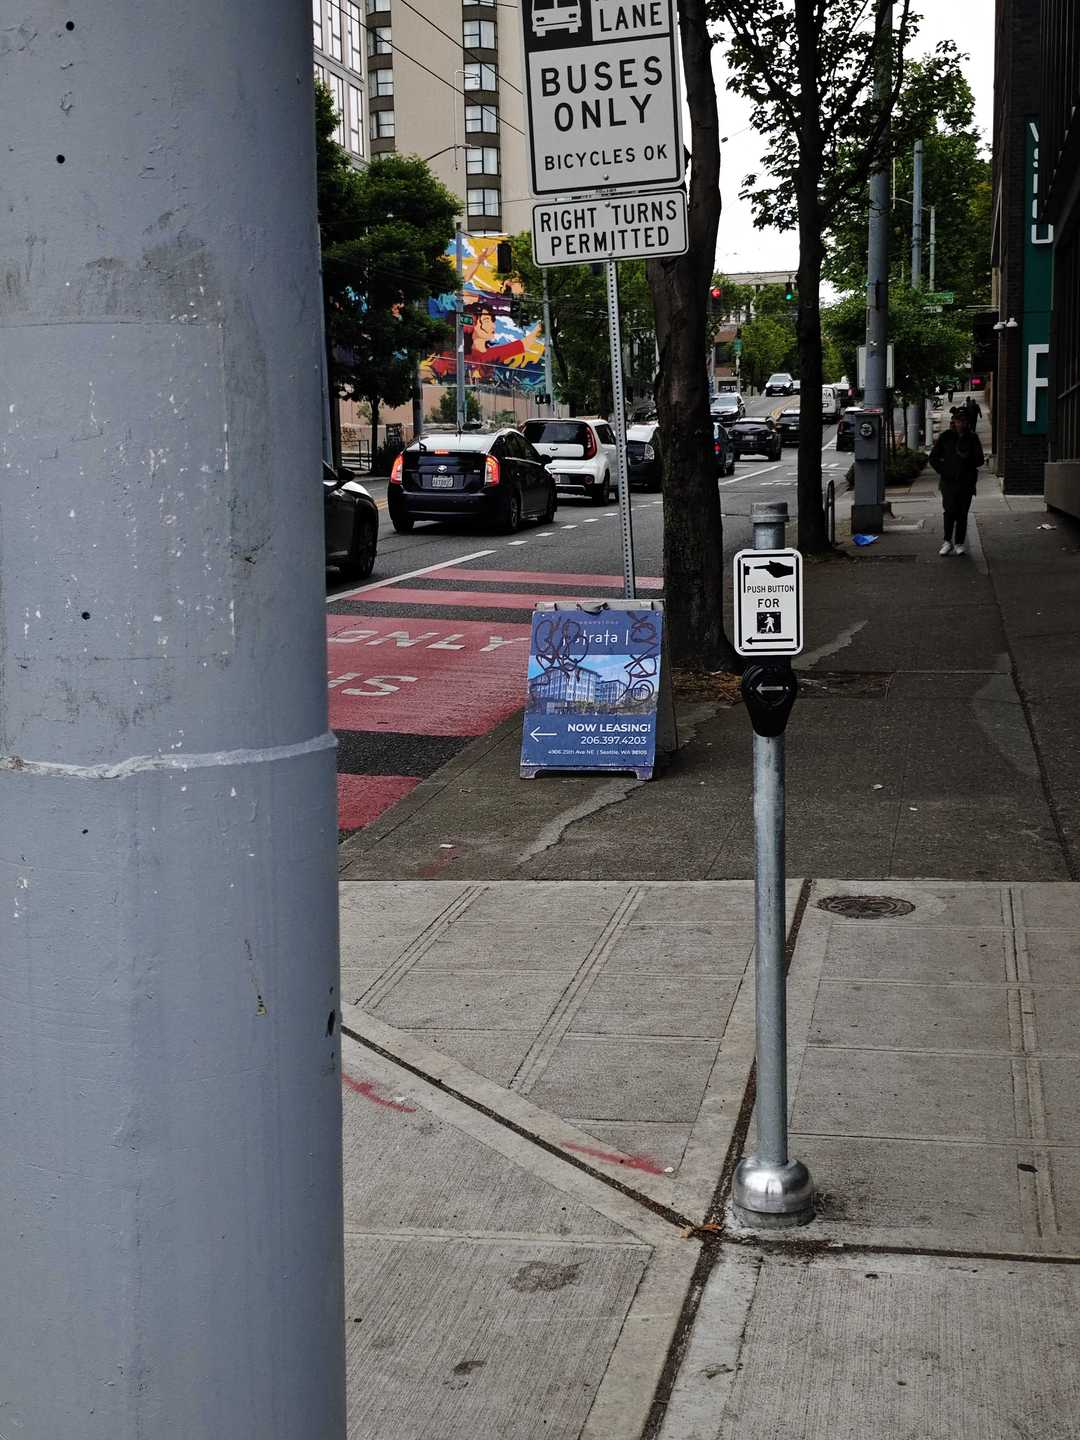ped_button: (731, 542, 805, 739)
